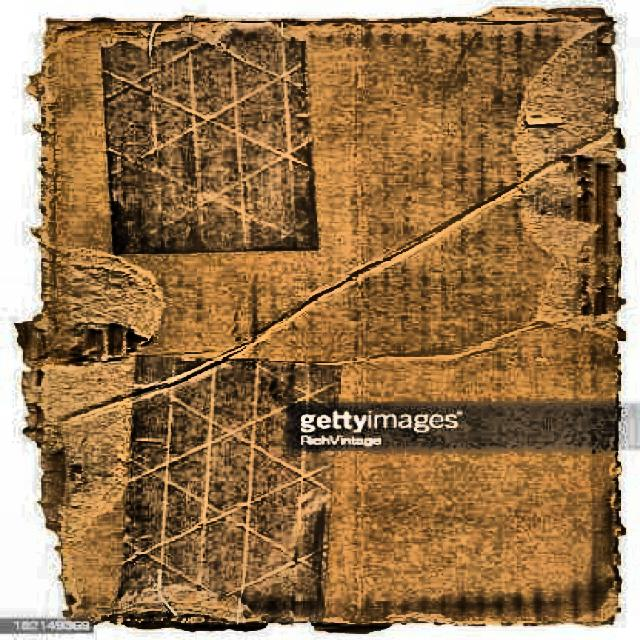Cardbox: (18, 1, 639, 640)
